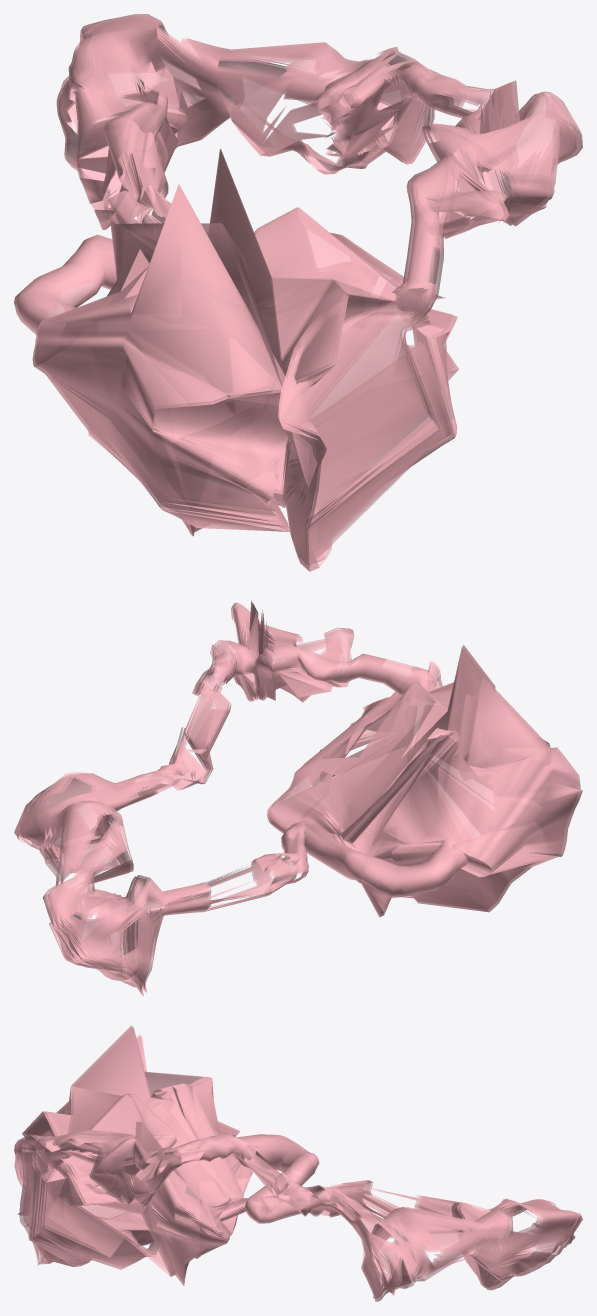
Rendered from cave_01.obj.
3 renders of one model, top to bottom at view 1: azimuth 30°, elevation 25°; view 2: azimuth 150°, elevation 25°; view 3: azimuth 270°, elevation 25°, orthographic. The views are drawn at different scales.
Visible parts, largest first — view 1: Sweep_2_2; view 2: Sweep_2_2; view 3: Sweep_2_2.
Boxes of the visible parts, left/top/right/bottom form: Sweep_2_2: left=14, top=14, right=582, bottom=571; Sweep_2_2: left=14, top=601, right=582, bottom=996; Sweep_2_2: left=14, top=1025, right=582, bottom=1301.
Bounding box in the file's own units: 49.24 × 33.03 × 71.72.
